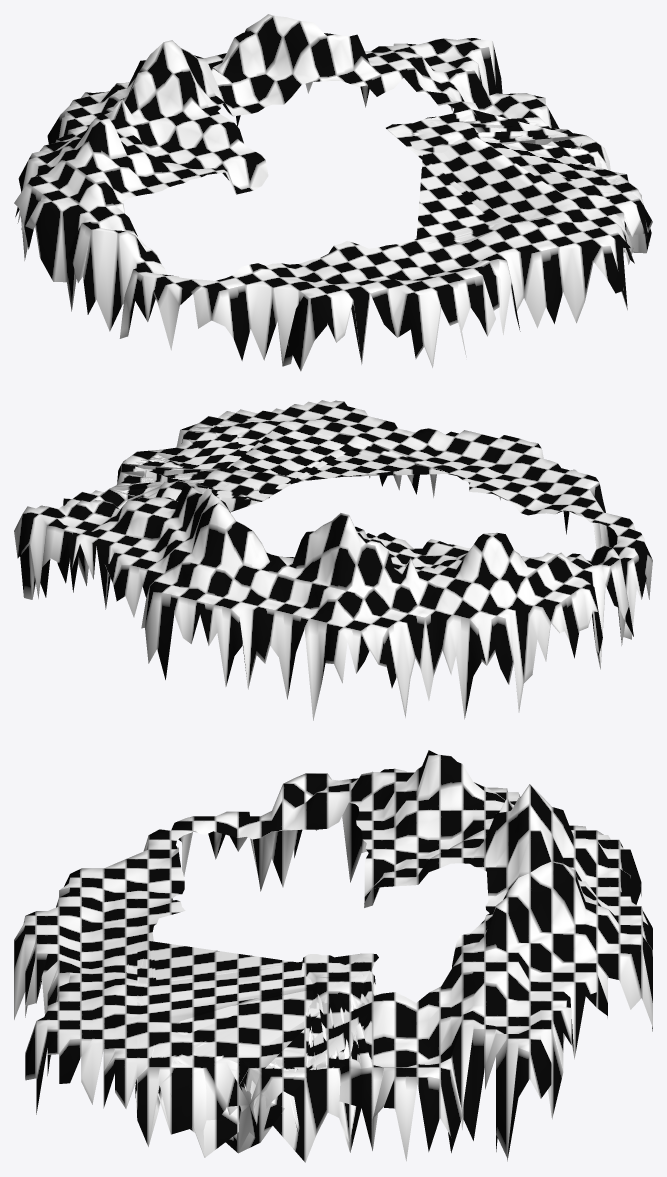
The model's file is ingm3.dae.
The picture shows the model from 3 angles, top to bottom: view 1: azimuth 30°, elevation 25°; view 2: azimuth 150°, elevation 25°; view 3: azimuth 270°, elevation 25°; orthographic projection. The views are drawn at different scales.
Parts seen in each view (by area): view 1: down; view 2: down; view 3: down.
Part boxes in pixels (x1,y1,x2,y2): down: (14, 14, 652, 371); down: (14, 400, 652, 720); down: (14, 750, 652, 1162).
Bounding box in the file's own units: 5.62 × 5.25 × 1.76.
Materials: 1 (1 with a texture image).
